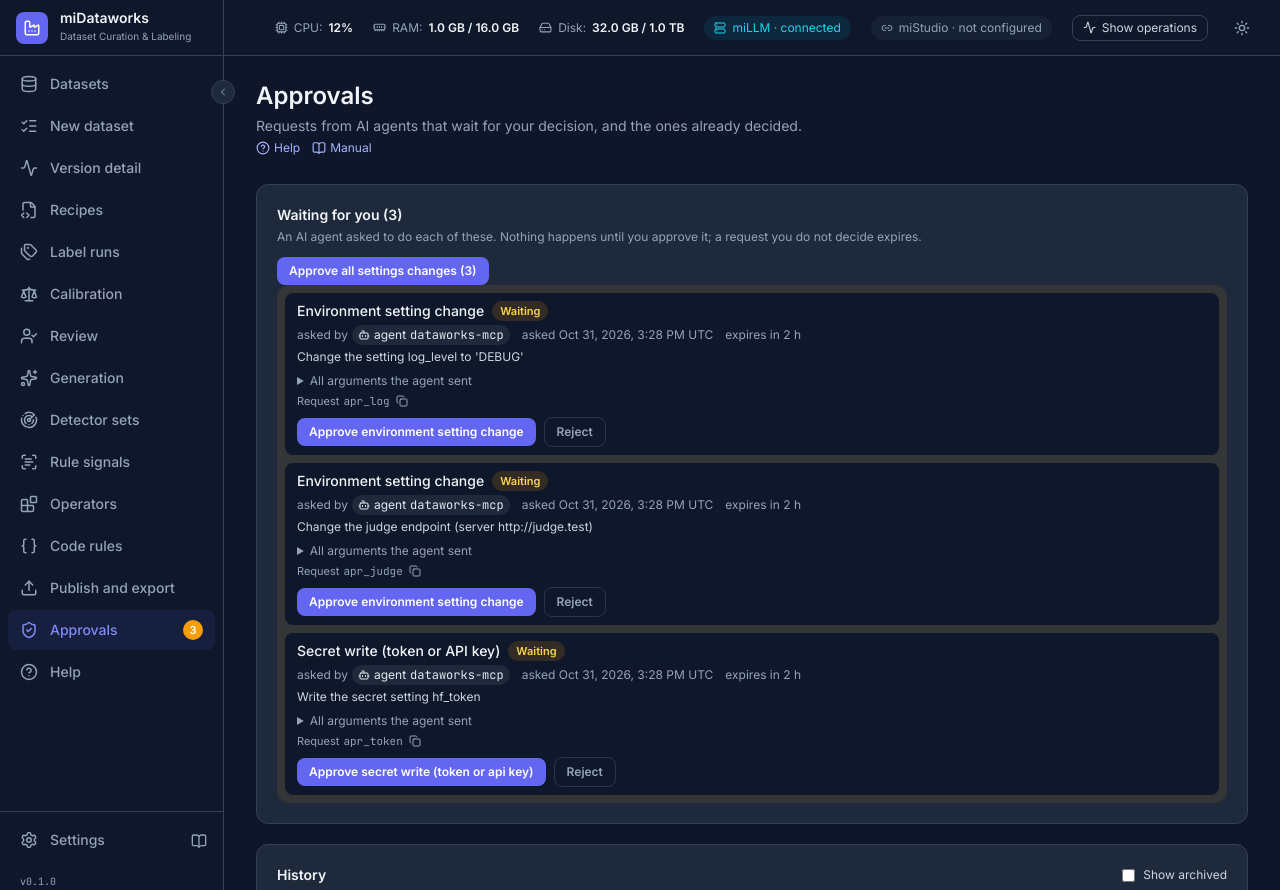
the confirm › asks for the Settings PIN once for the whole batch and sends it again once with the session
Click the button with test id "approve-all-settings-button" at {"x": 383, "y": 271}, box [277, 257, 488, 285]
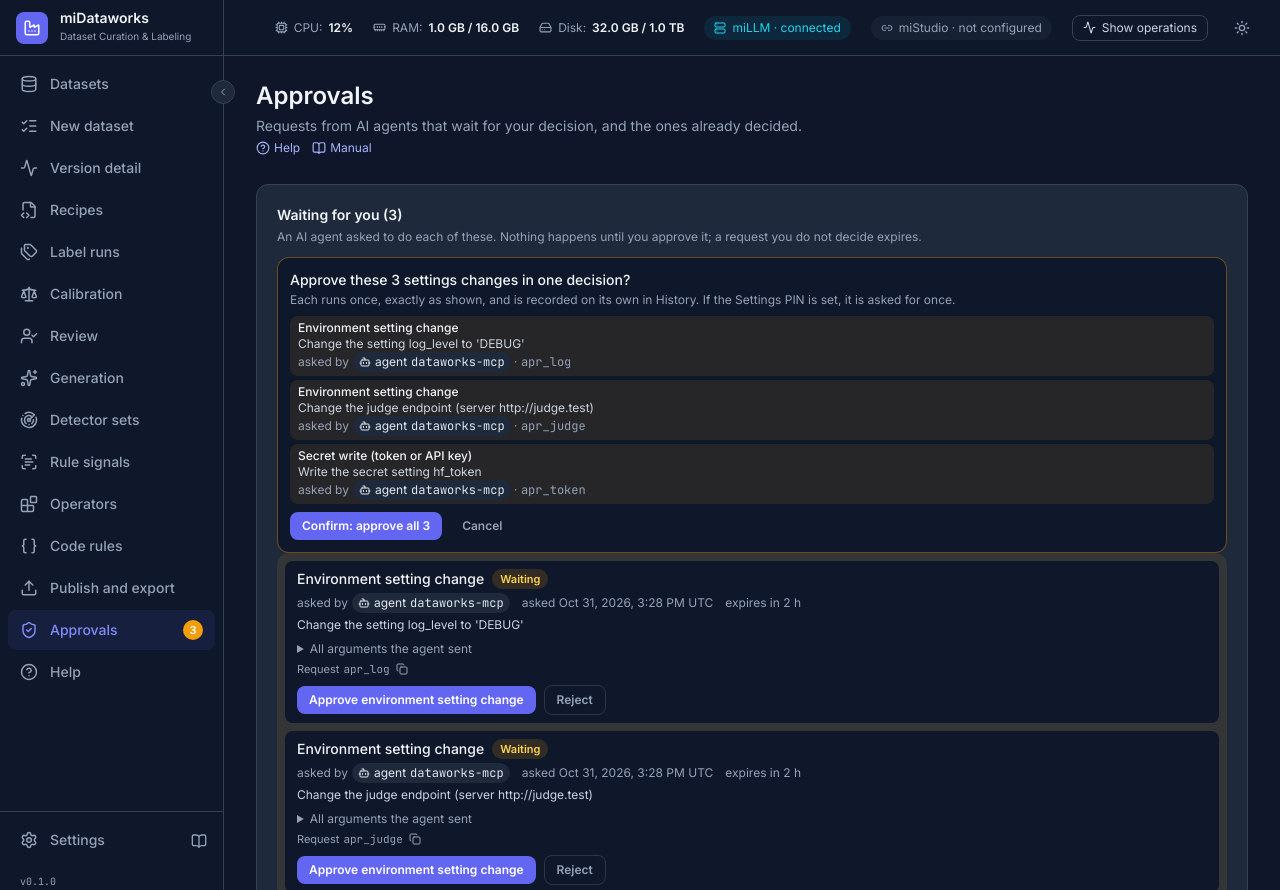
Click the button with test id "approve-all-settings-confirm-button" at {"x": 366, "y": 526}, box [290, 512, 442, 540]
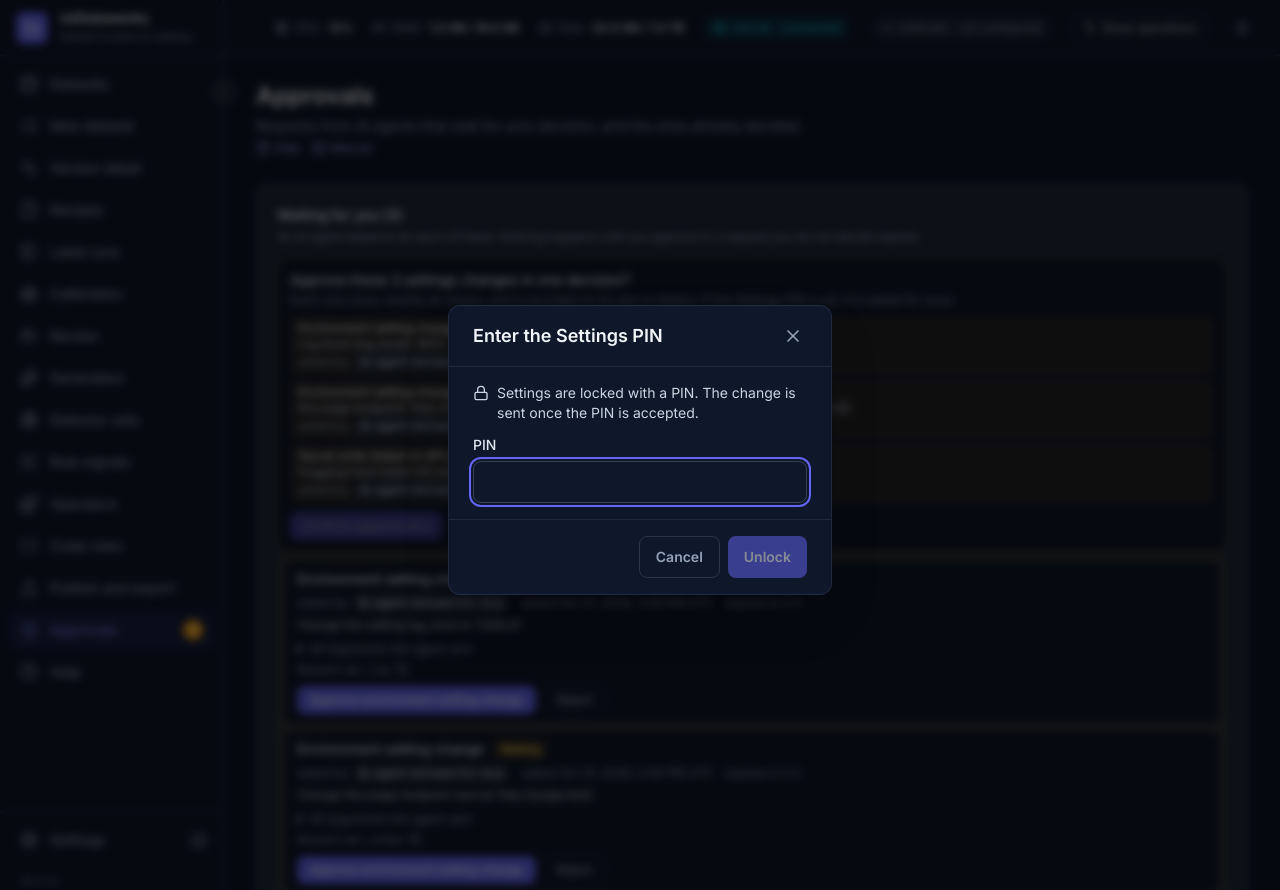
Type "4711" into the password field labelled "PIN" at {"x": 640, "y": 482}, box [473, 461, 807, 503]
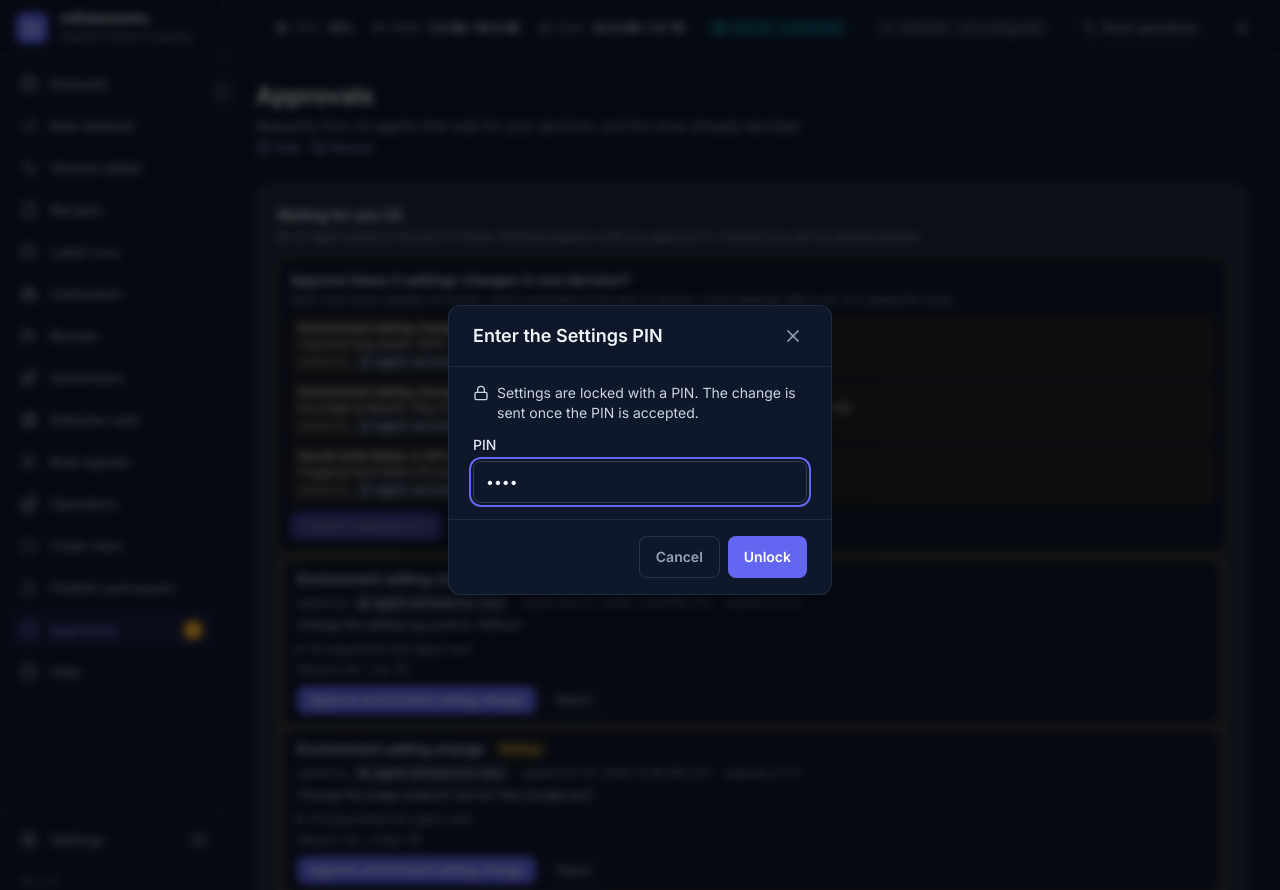
Click the button with test id "pin-unlock" at {"x": 767, "y": 557}, box [728, 536, 807, 578]
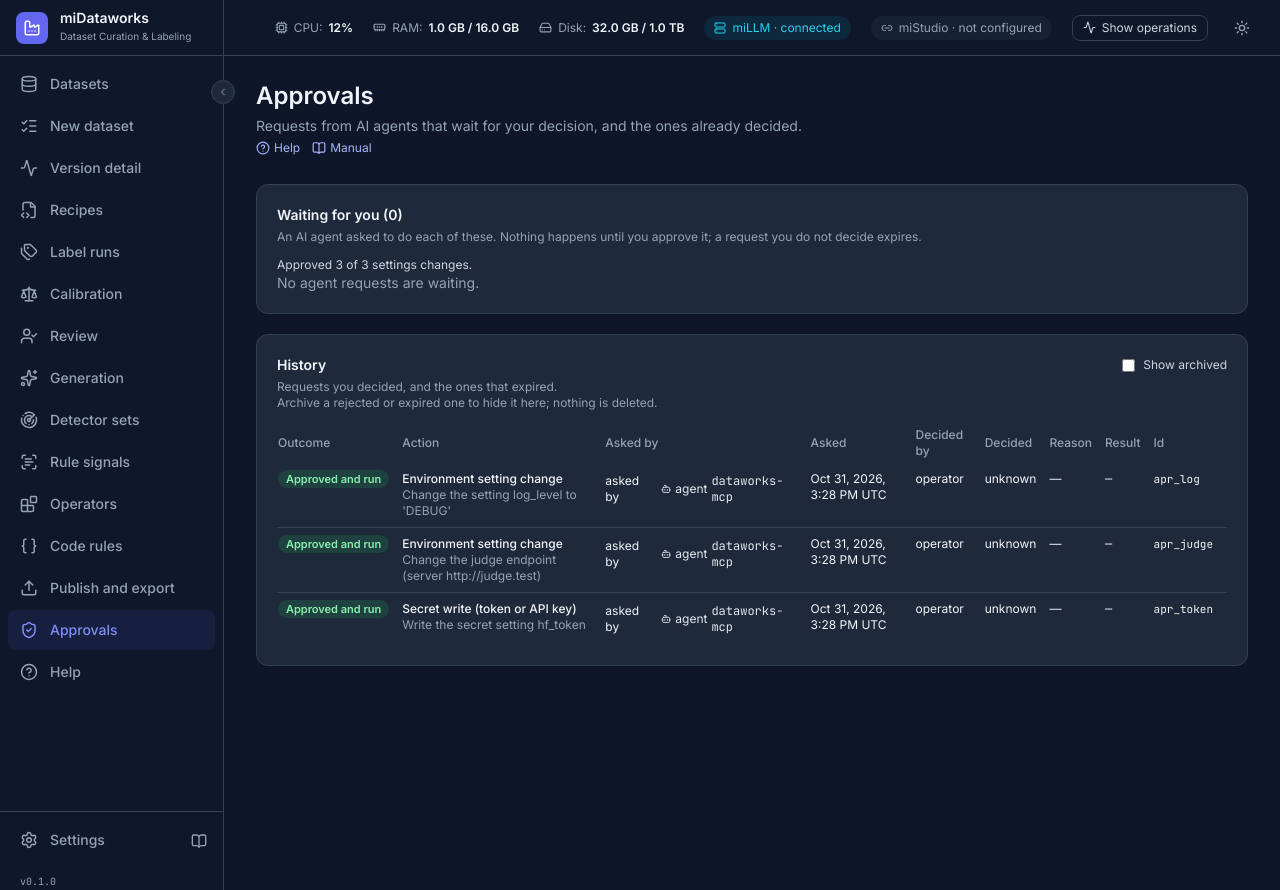
Result: the message with test id "approve-all-settings-outcome" shows "Approved 3 of 3" at [277, 257, 472, 272]
